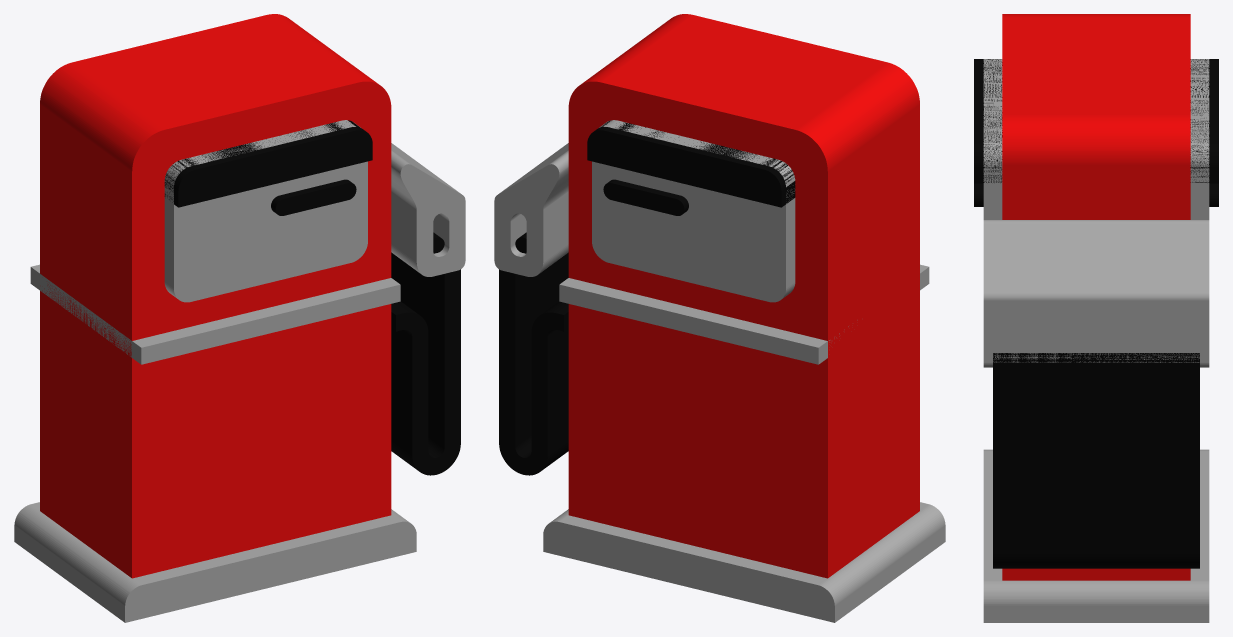
3 views of the same model, side by side, from view 1: azimuth 30°, elevation 25°; view 2: azimuth 150°, elevation 25°; view 3: azimuth 270°, elevation 25° (orthographic). The views are drawn at different scales.
Visible parts, largest first — view 1: U+26FD_layer00_obj00, U+26FD_layer02_obj00, U+26FD_layer01_obj00, U+26FD_layer03_obj00; view 2: U+26FD_layer00_obj00, U+26FD_layer02_obj00, U+26FD_layer01_obj00, U+26FD_layer03_obj00; view 3: U+26FD_layer02_obj00, U+26FD_layer01_obj00, U+26FD_layer00_obj00, U+26FD_layer03_obj00.
Boxes of the visible parts, left/top/right/bottom form: U+26FD_layer00_obj00: left=40, top=14, right=391, bottom=578; U+26FD_layer02_obj00: left=14, top=120, right=465, bottom=622; U+26FD_layer01_obj00: left=391, top=232, right=460, bottom=475; U+26FD_layer03_obj00: left=164, top=120, right=372, bottom=215; U+26FD_layer00_obj00: left=568, top=14, right=919, bottom=578; U+26FD_layer02_obj00: left=494, top=120, right=945, bottom=622; U+26FD_layer01_obj00: left=499, top=232, right=568, bottom=475; U+26FD_layer03_obj00: left=587, top=120, right=795, bottom=215; U+26FD_layer02_obj00: left=983, top=59, right=1209, bottom=622; U+26FD_layer01_obj00: left=993, top=353, right=1199, bottom=568; U+26FD_layer00_obj00: left=1002, top=14, right=1190, bottom=580; U+26FD_layer03_obj00: left=974, top=59, right=1218, bottom=206.
Bounding box in the file's own units: 0.4262 × 0.5677 × 0.26.
